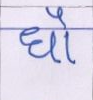ai_matra: (46, 7, 70, 27)
